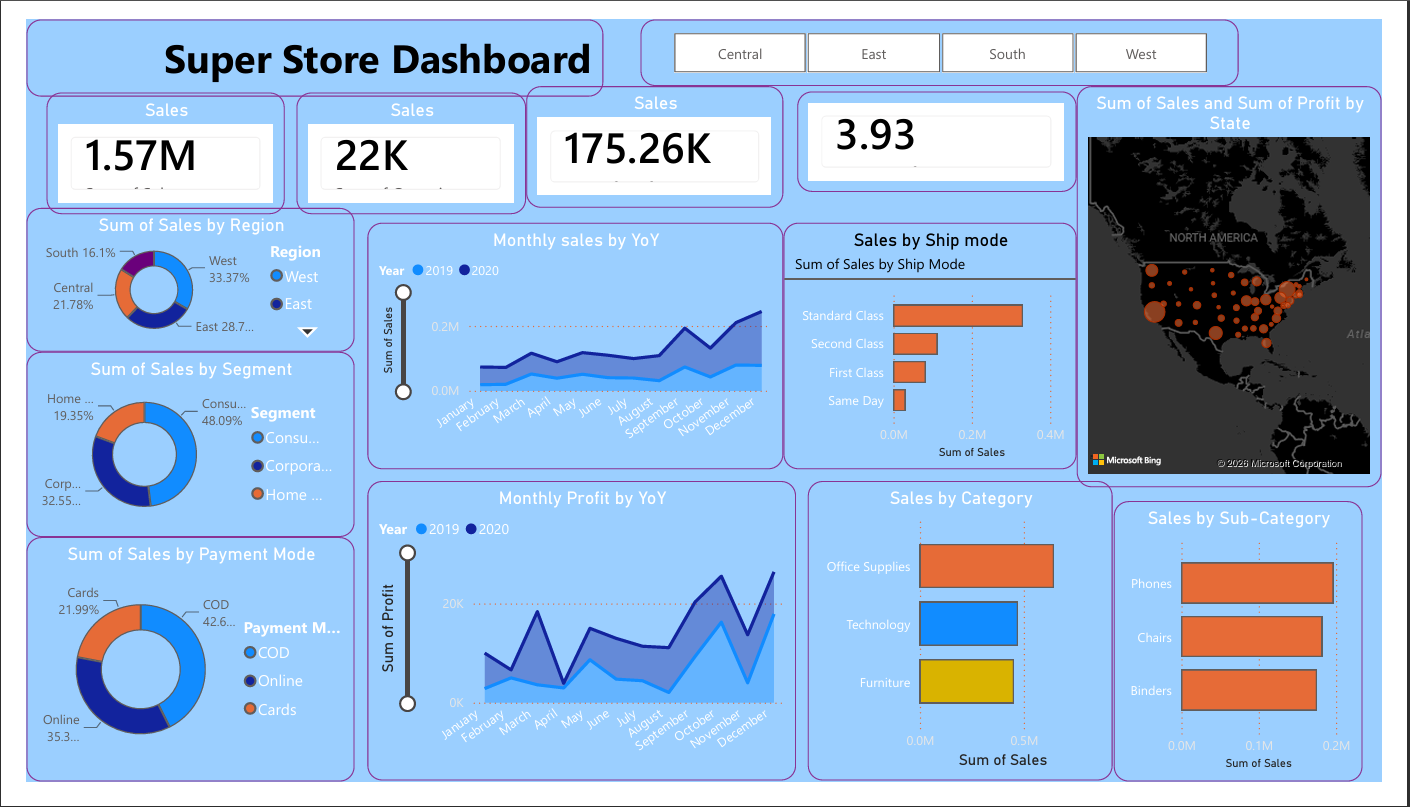

The page's visual inventory and layout, read from the dashboard file:
{"tool":"powerbi","page":{"name":"Page 1","canvas":[1280,720],"ordinal":0},"visuals":[{"type":"clusteredBarChart","title":" Sales by Category","fields":{"Category":["SuperStore_Sales_Dataset (1).Category"],"Y":["Sum(SuperStore_Sales_Dataset (1).Sales)"]},"box":[738.3,436.4,288.2,282.7],"z":0},{"type":"clusteredBarChart","title":" Sales by Sub-Category","fields":{"Category":["SuperStore_Sales_Dataset (1).Sub-Category","SuperStore_Sales_Dataset (1).Category"],"Y":["Sum(SuperStore_Sales_Dataset (1).Sales)"]},"box":[1026.7,455,235,265],"z":1000},{"type":"clusteredBarChart","title":" Sales by Ship mode","fields":{"Category":["SuperStore_Sales_Dataset (1).Ship Mode","SuperStore_Sales_Dataset (1).Sub-Category"],"Y":["Sum(SuperStore_Sales_Dataset (1).Sales)"]},"box":[715,191.7,276.7,233.3],"z":2000},{"type":"stackedAreaChart","title":"Monthly  sales  by YoY","fields":{"Category":["SuperStore_Sales_Dataset (1).Order Date.Variation.Date Hierarchy.Month","SuperStore_Sales_Dataset (1).Order Date.Variation.Date Hierarchy.Day"],"Y":["Sum(SuperStore_Sales_Dataset (1).Sales)"],"Series":["SuperStore_Sales_Dataset (1).Order Date.Variation.Date Hierarchy.Year"]},"box":[321.7,191.7,393.3,233.3],"z":3000},{"type":"stackedAreaChart","title":"Monthly Profit by YoY","fields":{"Category":["SuperStore_Sales_Dataset (1).Order Date.Variation.Date Hierarchy.Month","SuperStore_Sales_Dataset (1).Order Date.Variation.Date Hierarchy.Day"],"Series":["SuperStore_Sales_Dataset (1).Order Date.Variation.Date Hierarchy.Year"],"Y":["Sum(SuperStore_Sales_Dataset (1).Profit)"]},"box":[322.5,436.4,404.8,282.7],"z":4000},{"type":"map","fields":{"Category":["SuperStore_Sales_Dataset (1).State"],"Size":["Sum(SuperStore_Sales_Dataset (1).Sales)"]},"box":[991.7,63.3,288.3,378.3],"z":5000},{"type":"donutChart","fields":{"Category":["SuperStore_Sales_Dataset (1).Payment Mode"],"Y":["Sum(SuperStore_Sales_Dataset (1).Sales)"]},"box":[0,488.5,310.1,231.9],"z":6000},{"type":"donutChart","fields":{"Category":["SuperStore_Sales_Dataset (1).Segment"],"Y":["Sum(SuperStore_Sales_Dataset (1).Sales)"]},"box":[0,314.2,310.1,174.3],"z":7000},{"type":"slicer","fields":{"Values":["SuperStore_Sales_Dataset (1).Region"]},"box":[580,0,565,63.3],"z":8000},{"type":"textbox","box":[0,0,544.8,72.7],"z":9000},{"type":"cardVisual","title":"Sales","fields":{"Data":["Sum(SuperStore_Sales_Dataset (1).Sales)"]},"box":[19.2,68.6,225,115.3],"z":10000},{"type":"cardVisual","title":"Sales","fields":{"Data":["Sum(SuperStore_Sales_Dataset (1).Quantity)"]},"box":[255.2,68.6,216.8,115.3],"z":11000},{"type":"cardVisual","title":"Sales","fields":{"Data":["Sum(SuperStore_Sales_Dataset (1).Profit)"]},"box":[471.7,63.3,243.3,115],"z":12000},{"type":"cardVisual","title":"Sales","fields":{"Data":["Avg(SuperStore_Sales_Dataset (1).AvgDelivery)"]},"box":[728.3,68.3,263.3,95],"z":13000},{"type":"donutChart","fields":{"Category":["SuperStore_Sales_Dataset (1).Region"],"Y":["Sum(SuperStore_Sales_Dataset (1).Sales)"]},"box":[0,178.4,310.1,135.8],"z":14000}]}

Visuals, with their boxes in screenshot pixels (x1, y1, x2, y2), scaled from the page's 1280x720 canvas onto the 1410x807 screenshot:
" Sales by Category" clusteredBarChart: bbox=[813, 489, 1131, 806]
" Sales by Sub-Category" clusteredBarChart: bbox=[1131, 510, 1390, 806]
" Sales by Ship mode" clusteredBarChart: bbox=[788, 215, 1092, 476]
"Monthly  sales  by YoY" stackedAreaChart: bbox=[354, 215, 788, 476]
"Monthly Profit by YoY" stackedAreaChart: bbox=[355, 489, 801, 806]
map - SuperStore_Sales_Dataset (1).State x Sum(SuperStore_Sales_Dataset (1).Sales): bbox=[1092, 71, 1409, 495]
donutChart - SuperStore_Sales_Dataset (1).Payment Mode x Sum(SuperStore_Sales_Dataset (1).Sales): bbox=[0, 548, 342, 806]
donutChart - SuperStore_Sales_Dataset (1).Segment x Sum(SuperStore_Sales_Dataset (1).Sales): bbox=[0, 352, 342, 548]
slicer - SuperStore_Sales_Dataset (1).Region: bbox=[639, 0, 1261, 71]
textbox: bbox=[0, 0, 600, 81]
"Sales" cardVisual: bbox=[21, 77, 269, 206]
"Sales" cardVisual: bbox=[281, 77, 520, 206]
"Sales" cardVisual: bbox=[520, 71, 788, 200]
"Sales" cardVisual: bbox=[802, 77, 1092, 183]
donutChart - SuperStore_Sales_Dataset (1).Region x Sum(SuperStore_Sales_Dataset (1).Sales): bbox=[0, 200, 342, 352]
